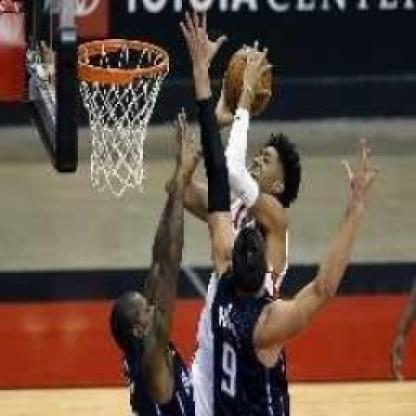basketball: (216, 49, 271, 113)
